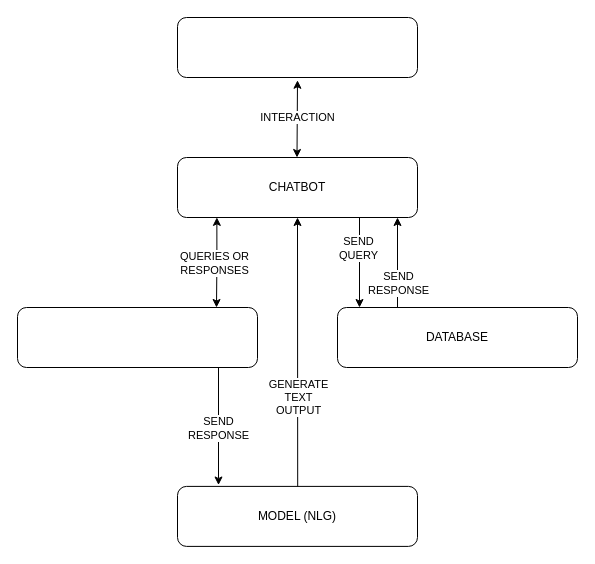
The diagram is 595 pixels wide and 564 high, and some of its shapes have lost their labels. The box of each missing label's shape, as (x1, y1, x2, y2) in pixels:
NLP / NLU: (16, 306, 258, 368)
USER: (176, 16, 418, 78)
